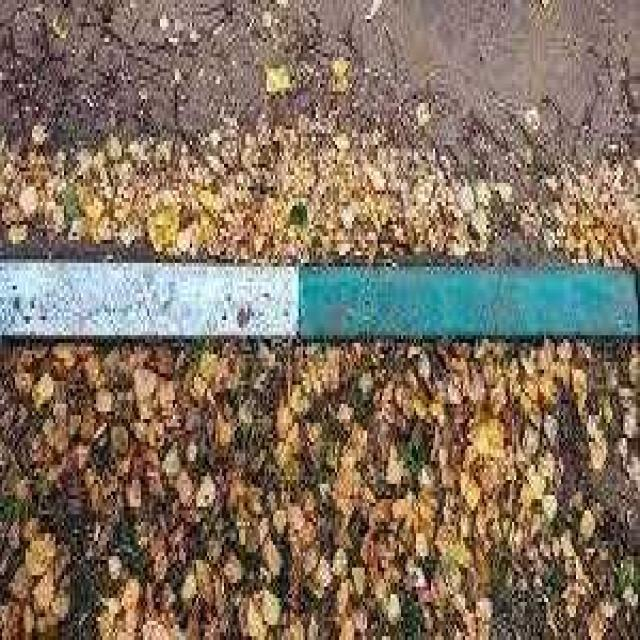curb: (1, 271, 637, 343)
